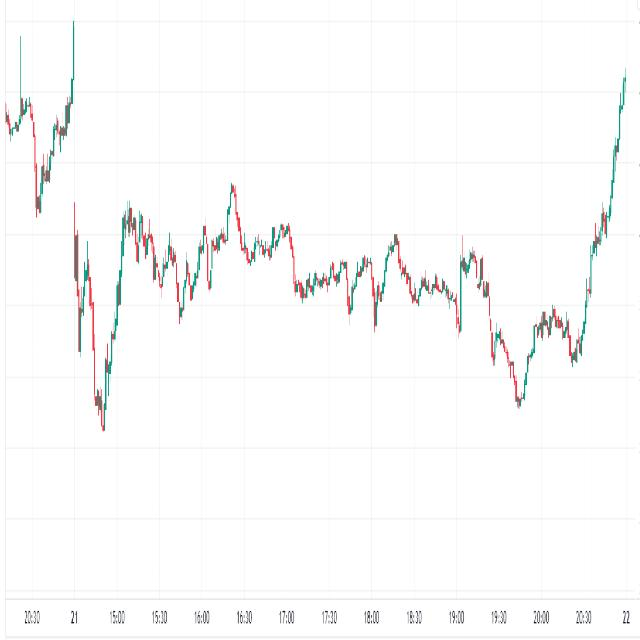Rounding-Bottom: (122, 192, 233, 326)
